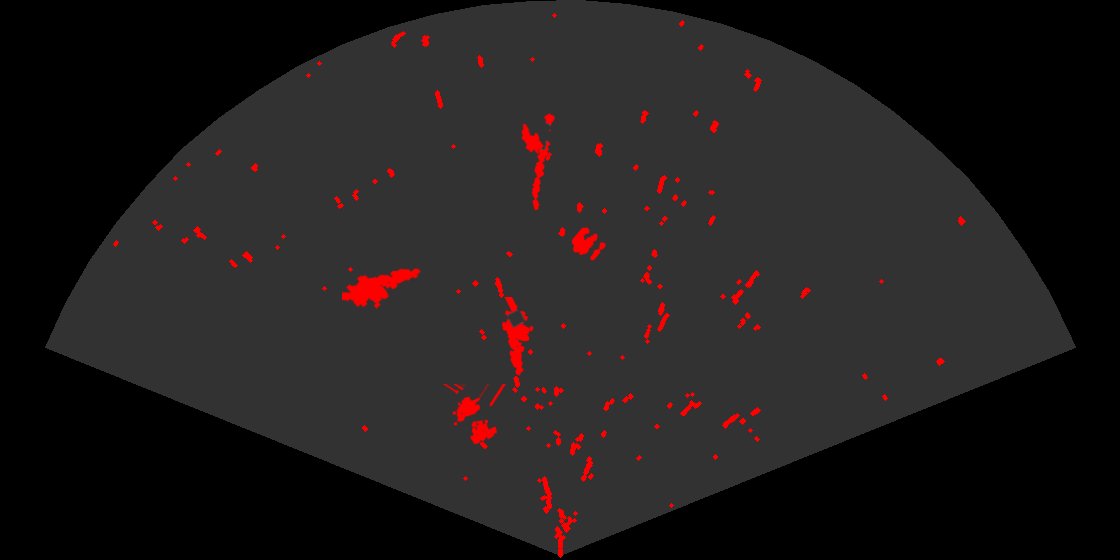AUV: (520, 122, 545, 157)
ball: (570, 226, 607, 262)
cage: (441, 384, 507, 446)
chain: (530, 111, 556, 212)
frogman: (342, 267, 421, 311), (500, 297, 535, 377)
